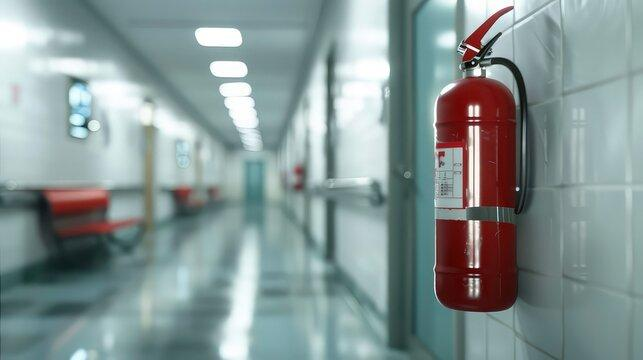wall-mounted: (414, 6, 570, 324)
